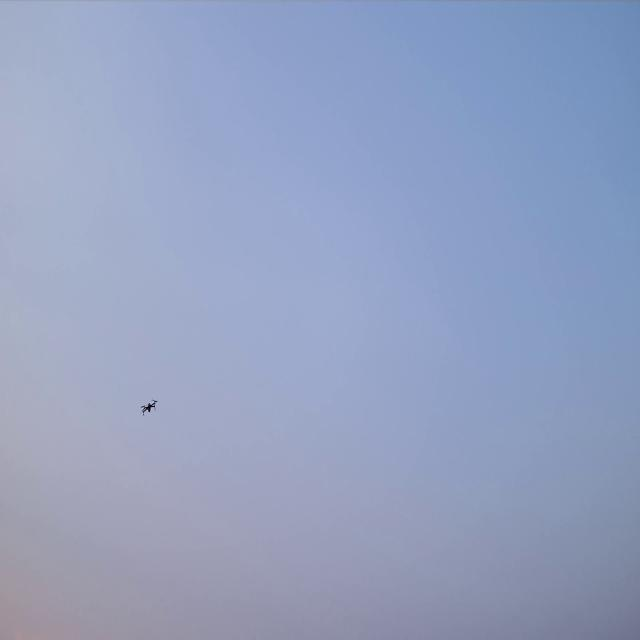UAV: (140, 397, 158, 417)
